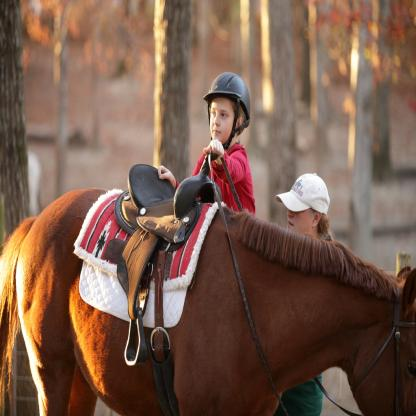Helmet: (201, 70, 252, 155), (173, 166, 221, 226)
